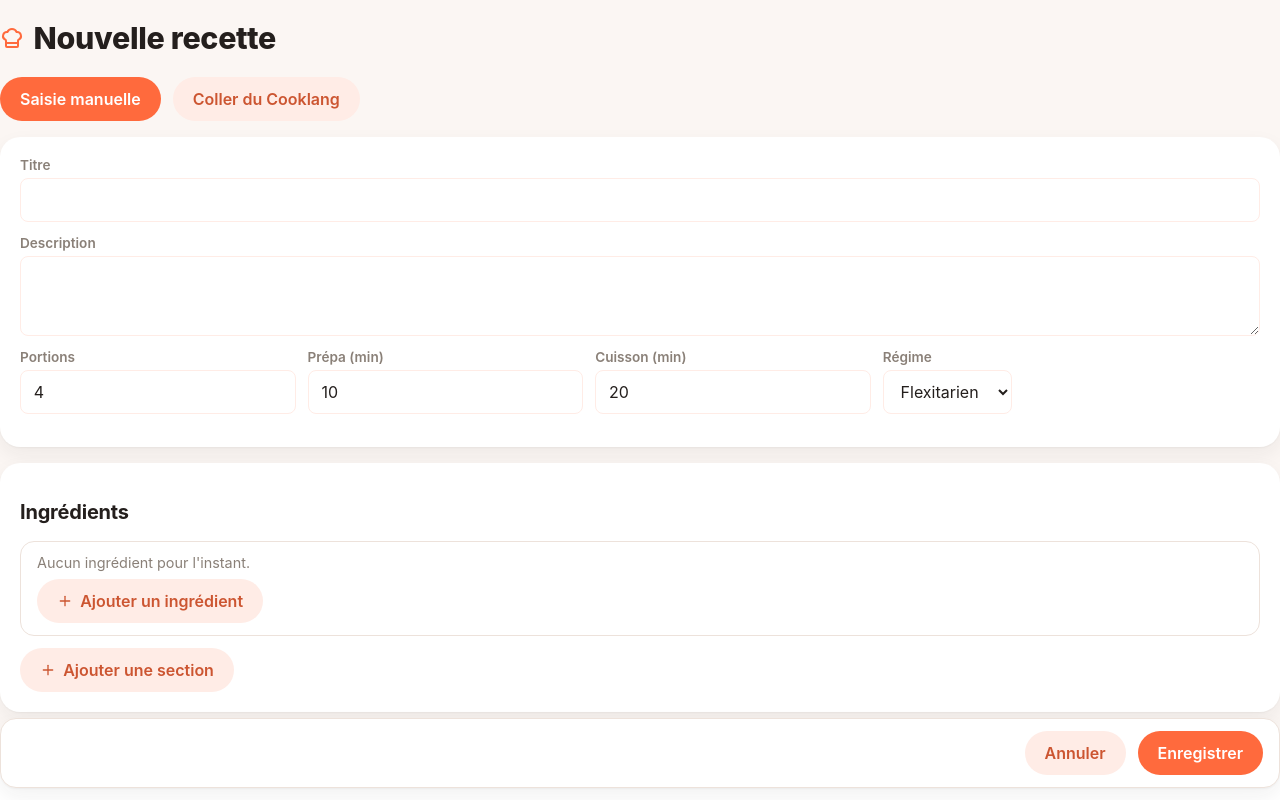
Test: RecipeFormView - Cooklang import mode › explains a 400 (unreadable text)
The width and height of the screenshot is (1280, 800).
Click the tab "Coller du Cooklang" at (266, 99), box [173,77,360,121]
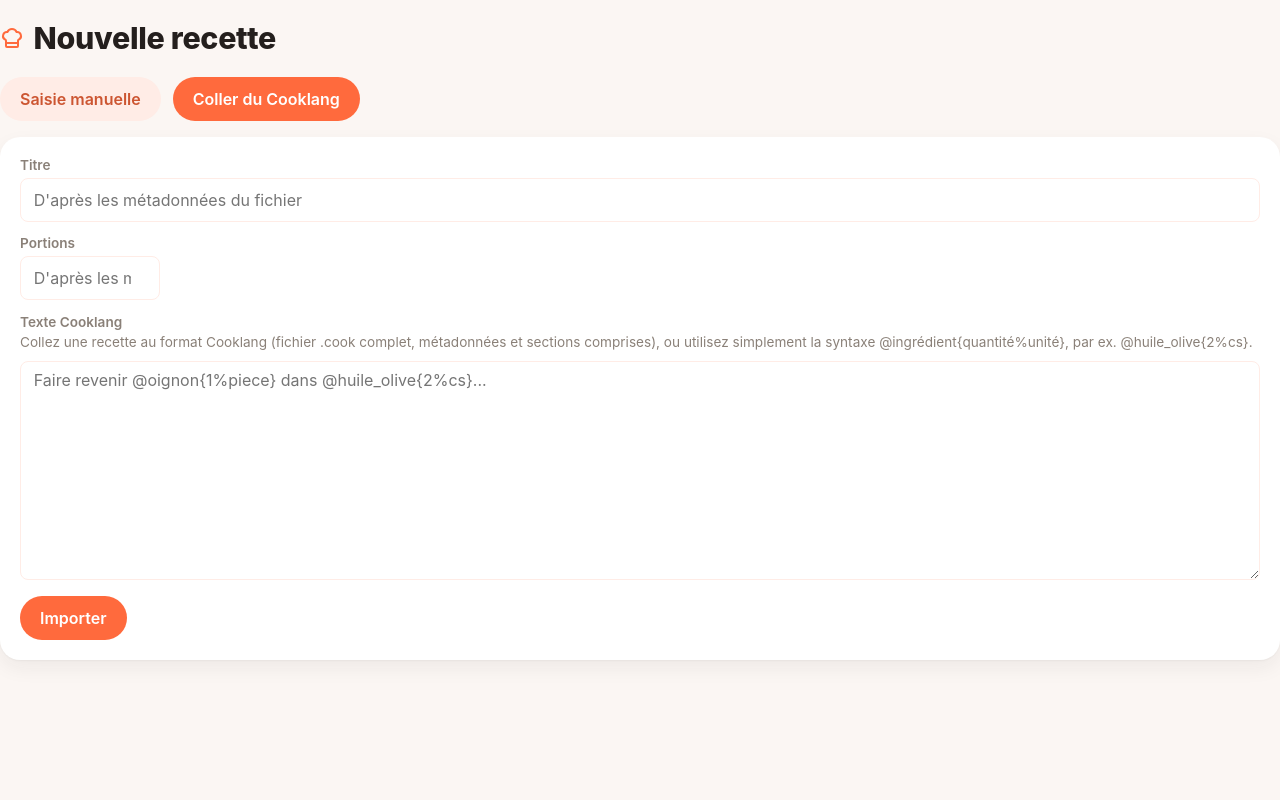
Type "Ajouter @sel." into the text box with id "cooklang-text" at (640, 470), box [20,361,1260,580]
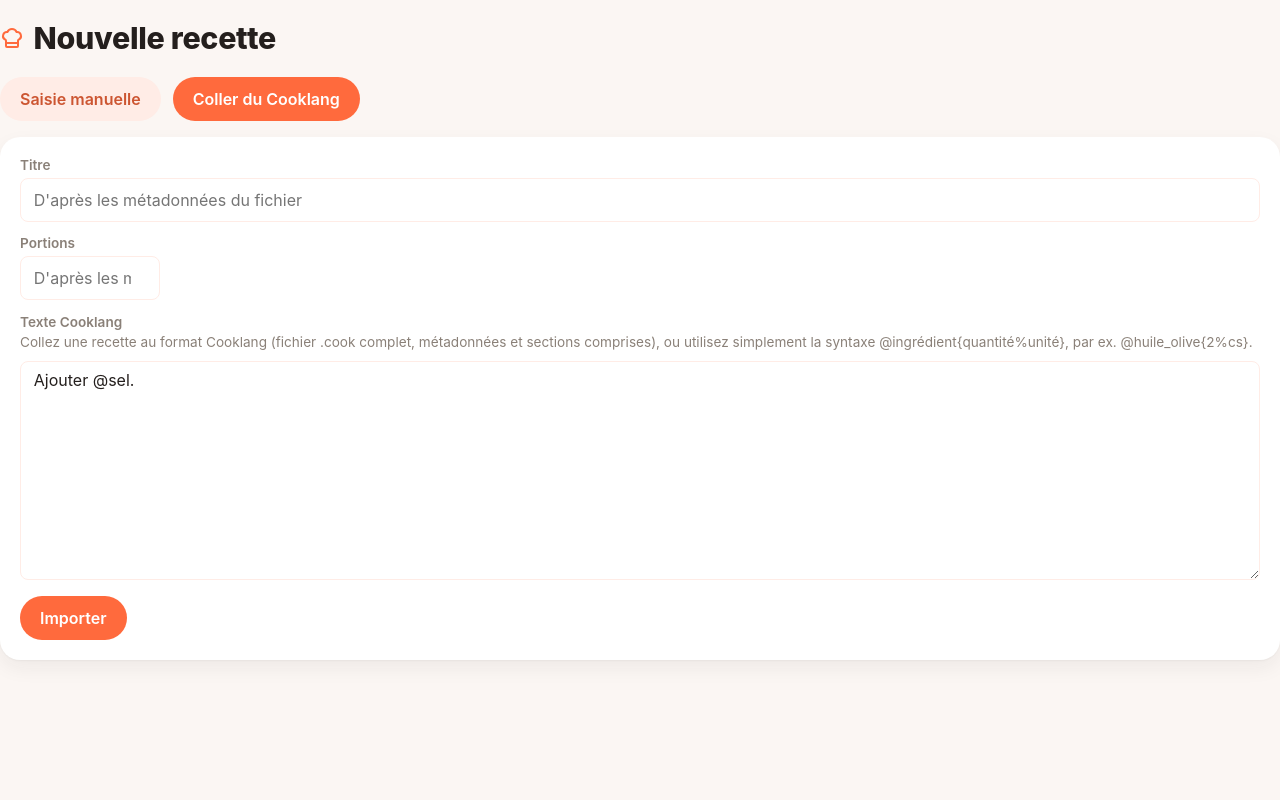
Submit the form
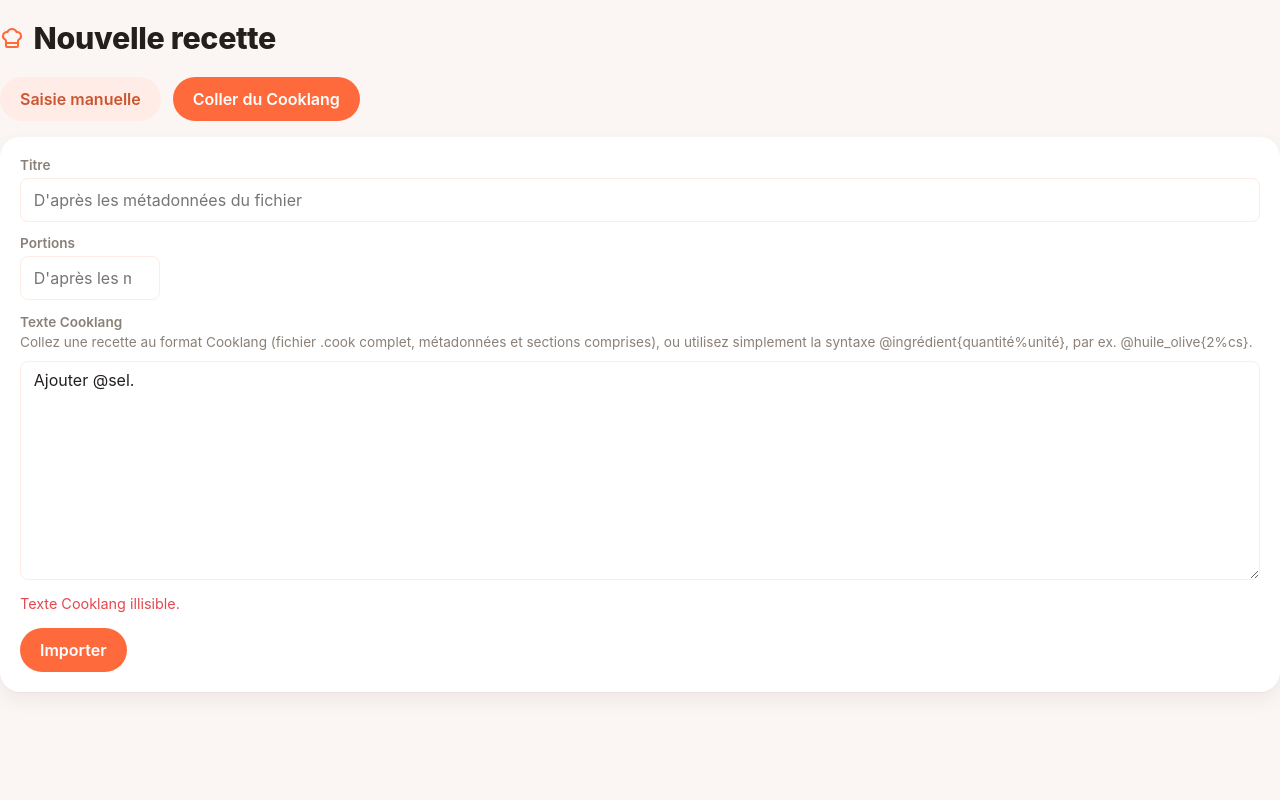
Now the text "Texte Cooklang illisible" is shown, box [20,595,180,612]
